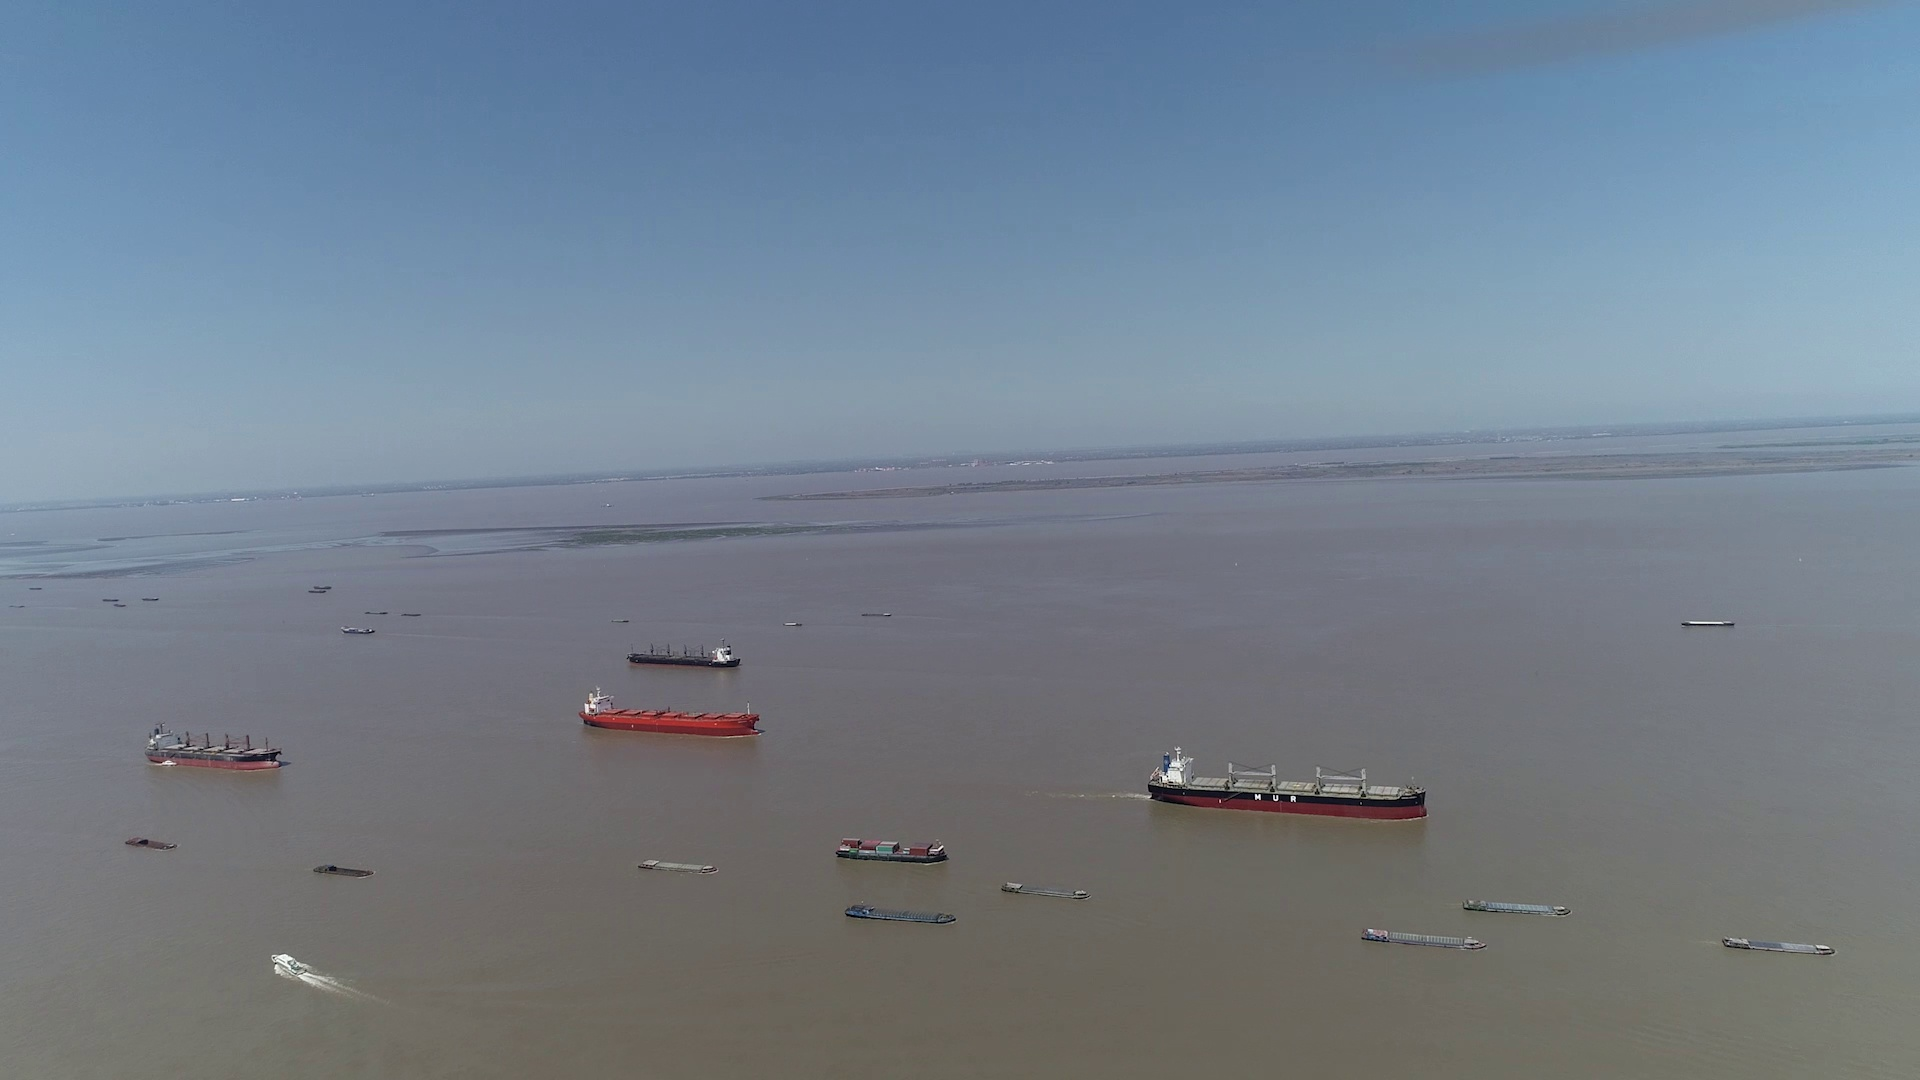ship: (1149, 746, 1425, 819), (579, 688, 757, 737), (142, 723, 281, 771), (833, 837, 948, 865), (628, 641, 738, 667), (1362, 926, 1485, 949), (845, 903, 957, 924), (1462, 897, 1573, 918), (1721, 935, 1836, 953), (1002, 880, 1089, 899), (640, 858, 717, 874), (313, 864, 373, 876), (270, 952, 303, 973), (125, 837, 178, 851), (1685, 618, 1734, 628), (342, 624, 378, 633)
